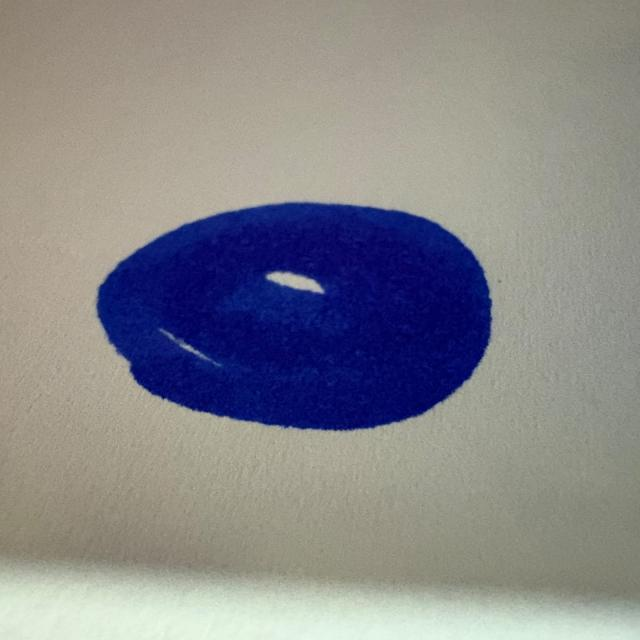Circle: (90, 198, 502, 436)
